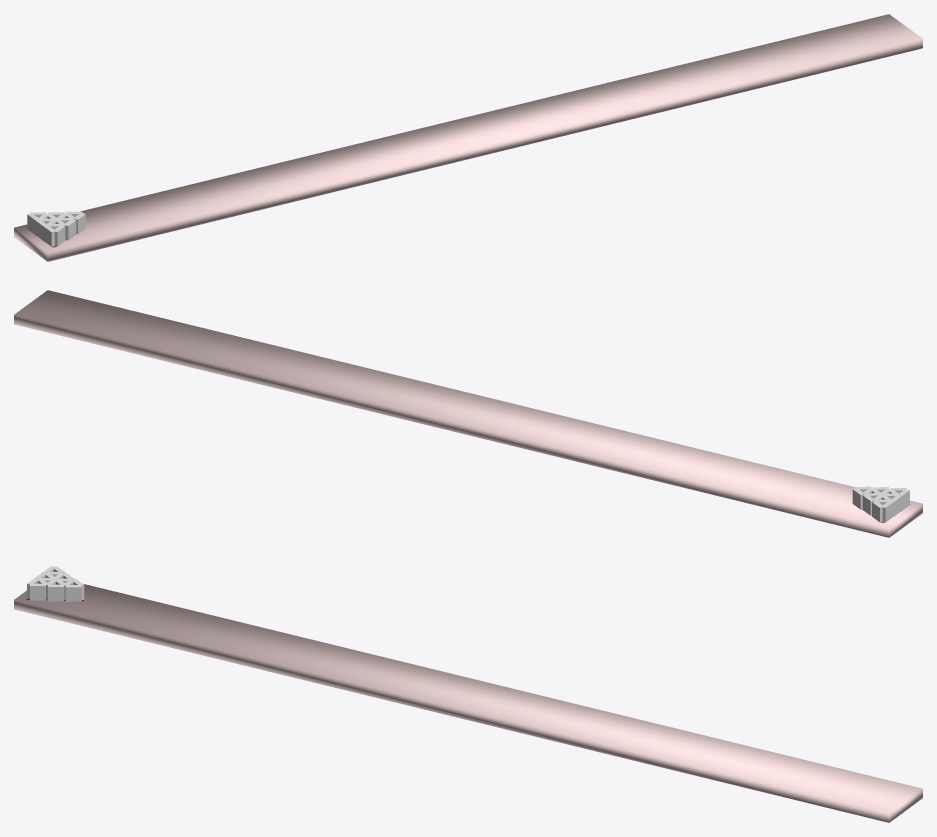
The model's file is alley.fbx.
The picture shows the model from 3 angles, top to bottom: view 1: azimuth 30°, elevation 25°; view 2: azimuth 150°, elevation 25°; view 3: azimuth 330°, elevation 25°; orthographic projection.
Parts seen in each view (by area): view 1: Alley; view 2: Alley; view 3: Alley.
Part boxes in pixels (box(x1,y1,x2,y2)): Alley: box(14, 14, 922, 261); Alley: box(14, 290, 922, 537); Alley: box(14, 584, 922, 822).
Size of the model in its own units: 1915 by 50.76 by 128.
